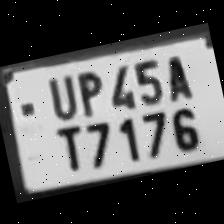1: (108, 108, 144, 162)
4: (97, 57, 138, 112)
5: (126, 51, 165, 106)
6: (162, 99, 203, 154)
7: (76, 112, 117, 168), (132, 103, 172, 160)
A: (155, 46, 196, 102)
P: (68, 62, 108, 119)
T: (47, 116, 89, 174)
U: (38, 67, 80, 120)
